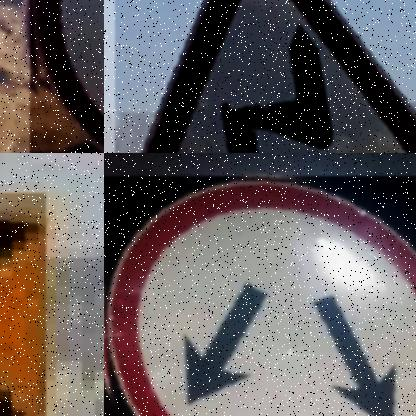Left bend: (0, 192, 45, 416)
Road Divides: (104, 176, 416, 416)
Zigzag Road Ahead: (143, 0, 416, 153)
